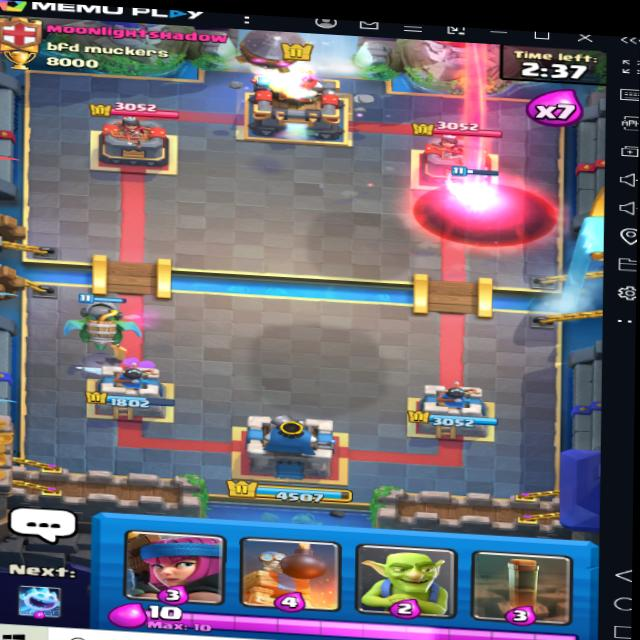Rocket: (219, 25, 324, 73)
Void: (420, 182, 558, 250)
